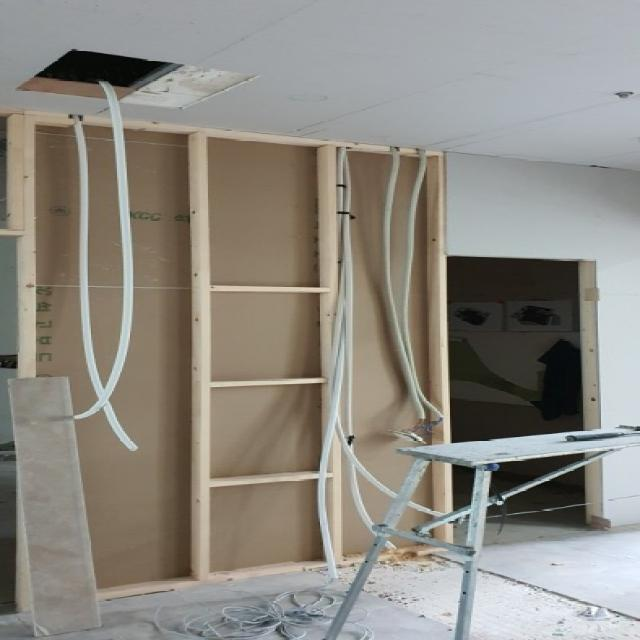stud: (0, 107, 455, 611)
